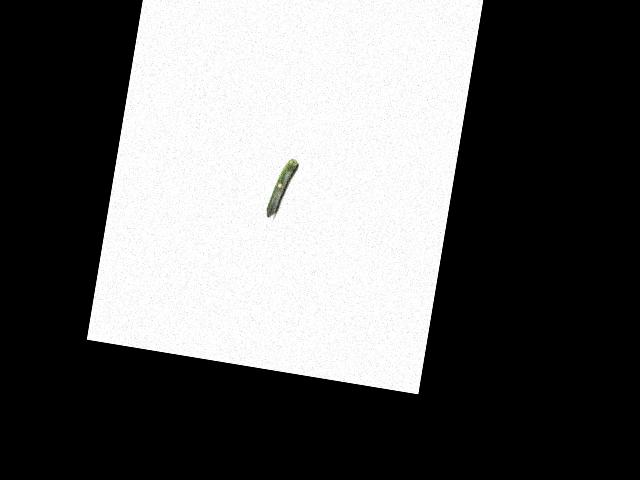cucumber: (265, 155, 298, 220)
